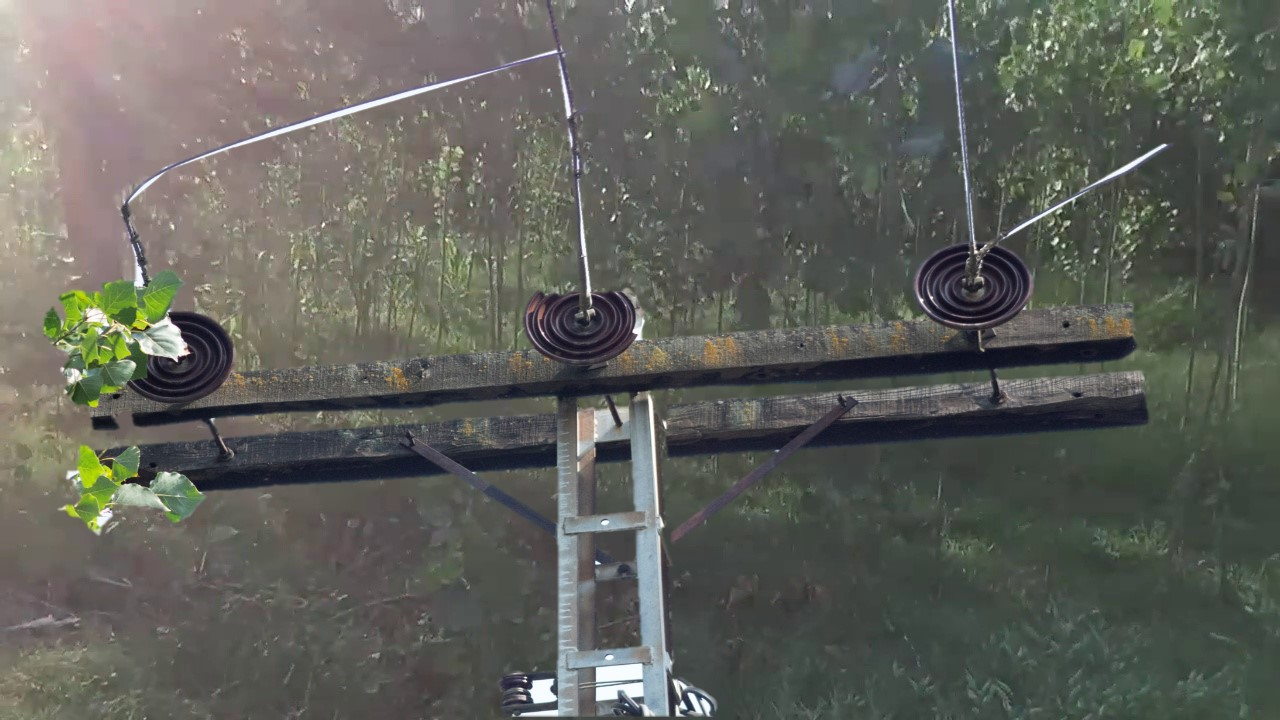defect_disc: (520, 282, 652, 368)
insulator_disc: (912, 239, 1041, 333), (148, 302, 247, 399)
